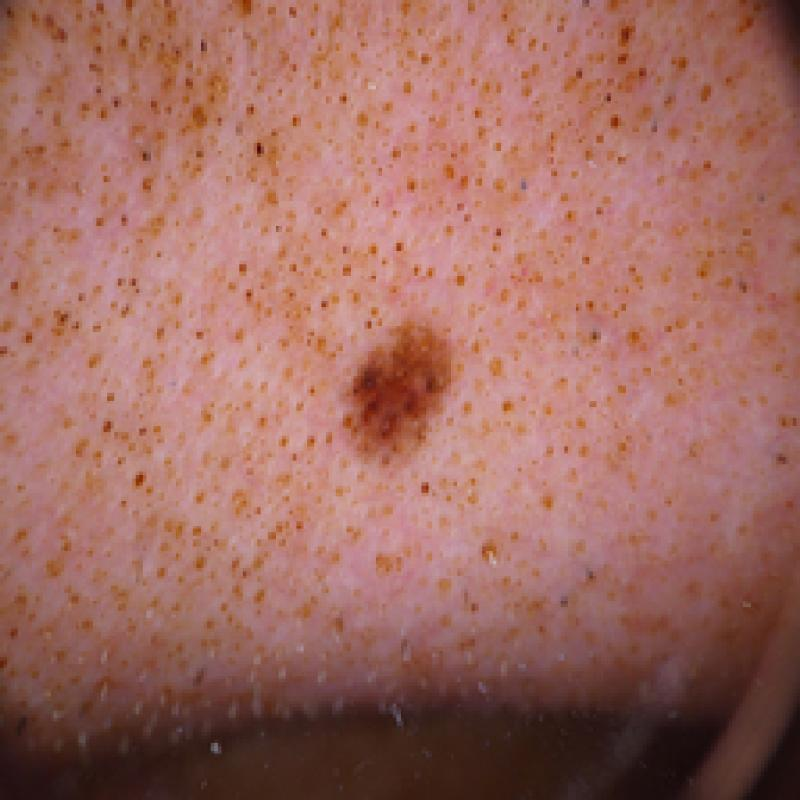benign: (327, 302, 499, 480)
